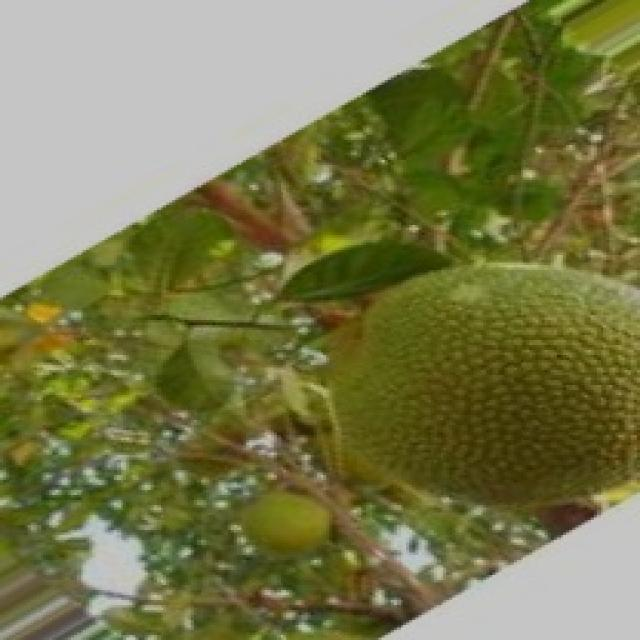Fruit: (295, 238, 640, 542)
